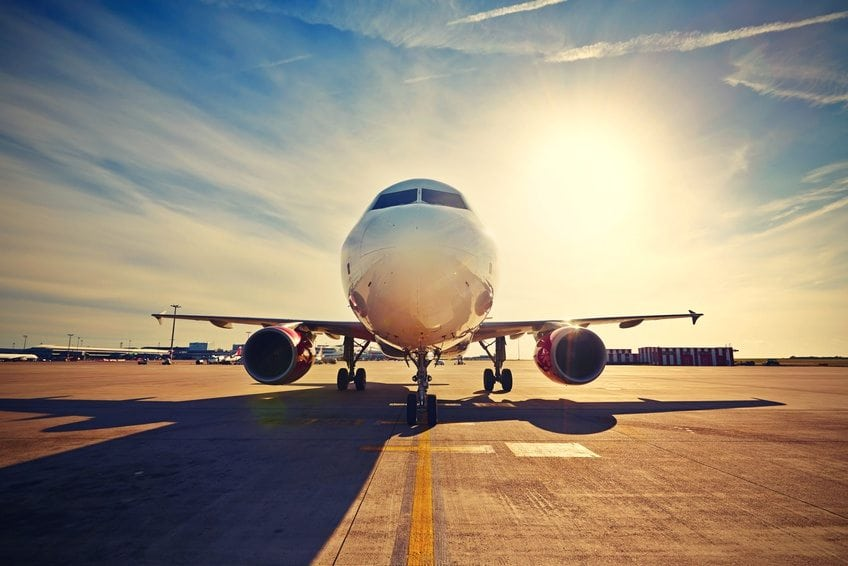plane: (153, 174, 712, 432)
